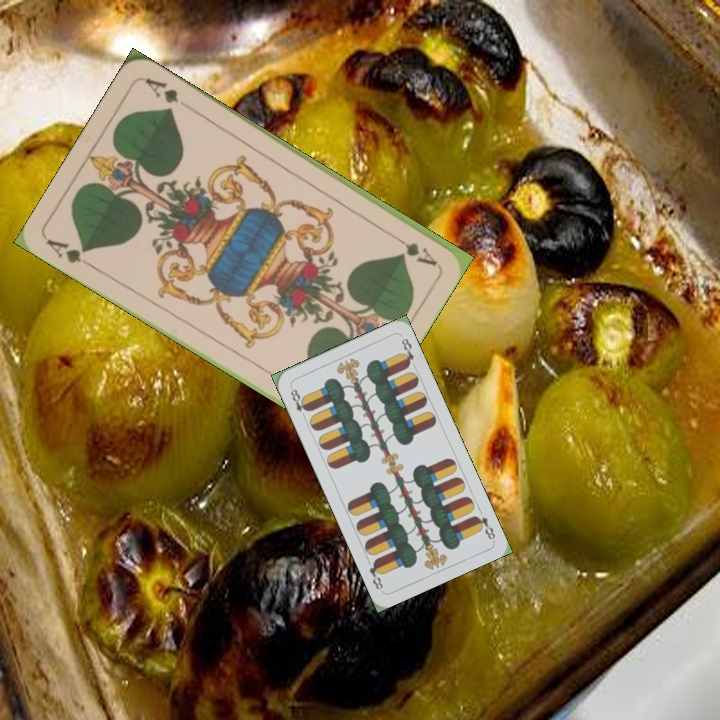E8: (286, 382, 312, 421), (470, 512, 498, 542)
GA: (387, 229, 440, 270), (42, 234, 97, 272)
